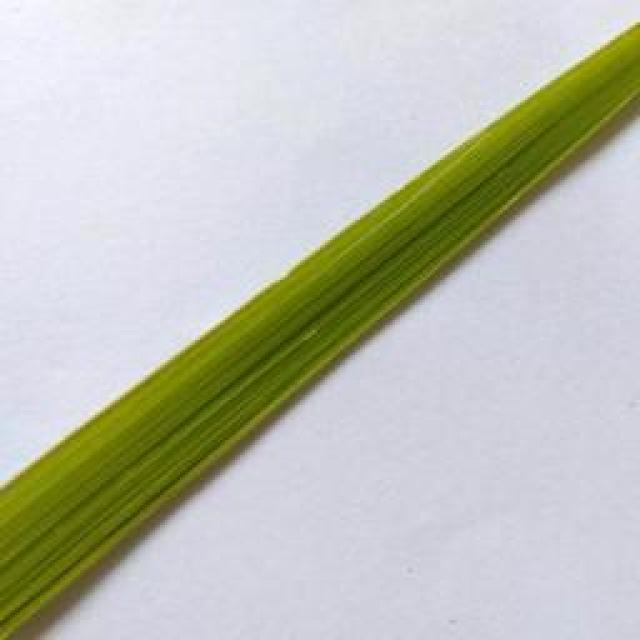Healthy-Plant: (0, 19, 640, 639)
